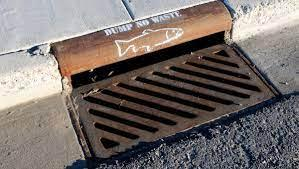open drainage-not overflowing-: (71, 38, 294, 161)
